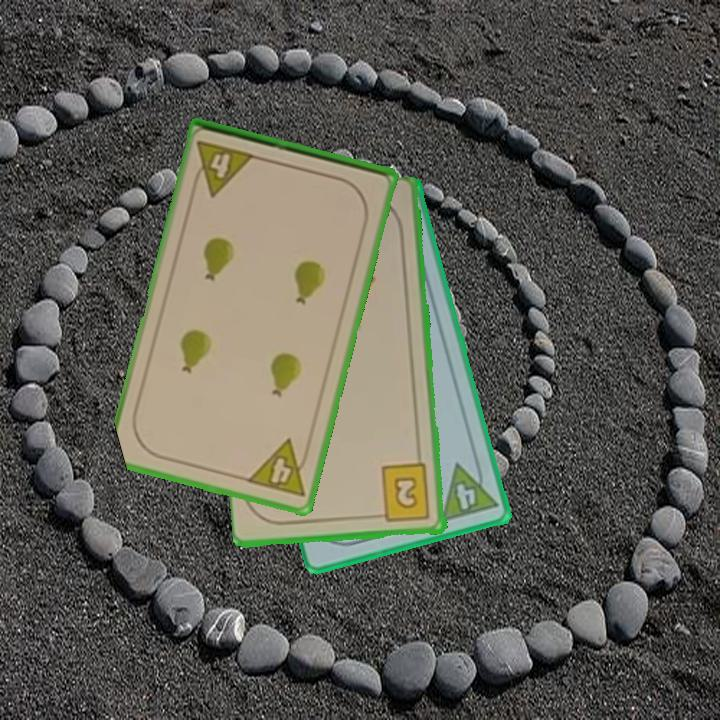2b: (372, 461, 433, 525)
4p: (243, 435, 314, 501), (437, 455, 501, 525), (188, 137, 258, 199)
